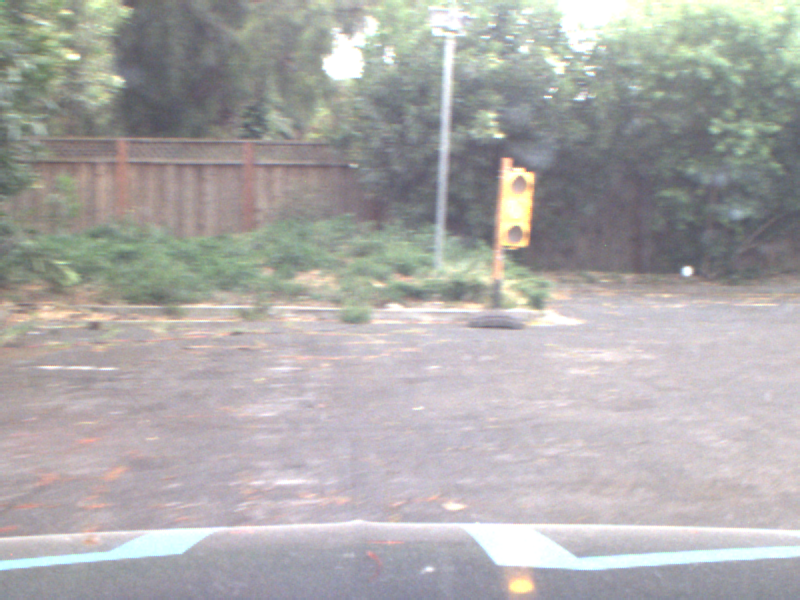Yellow: (496, 168, 529, 246)
